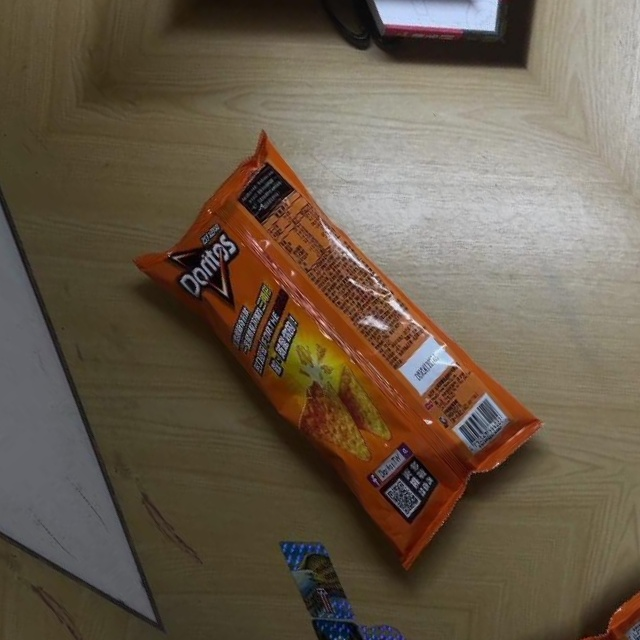Doritos: (118, 111, 561, 581)
